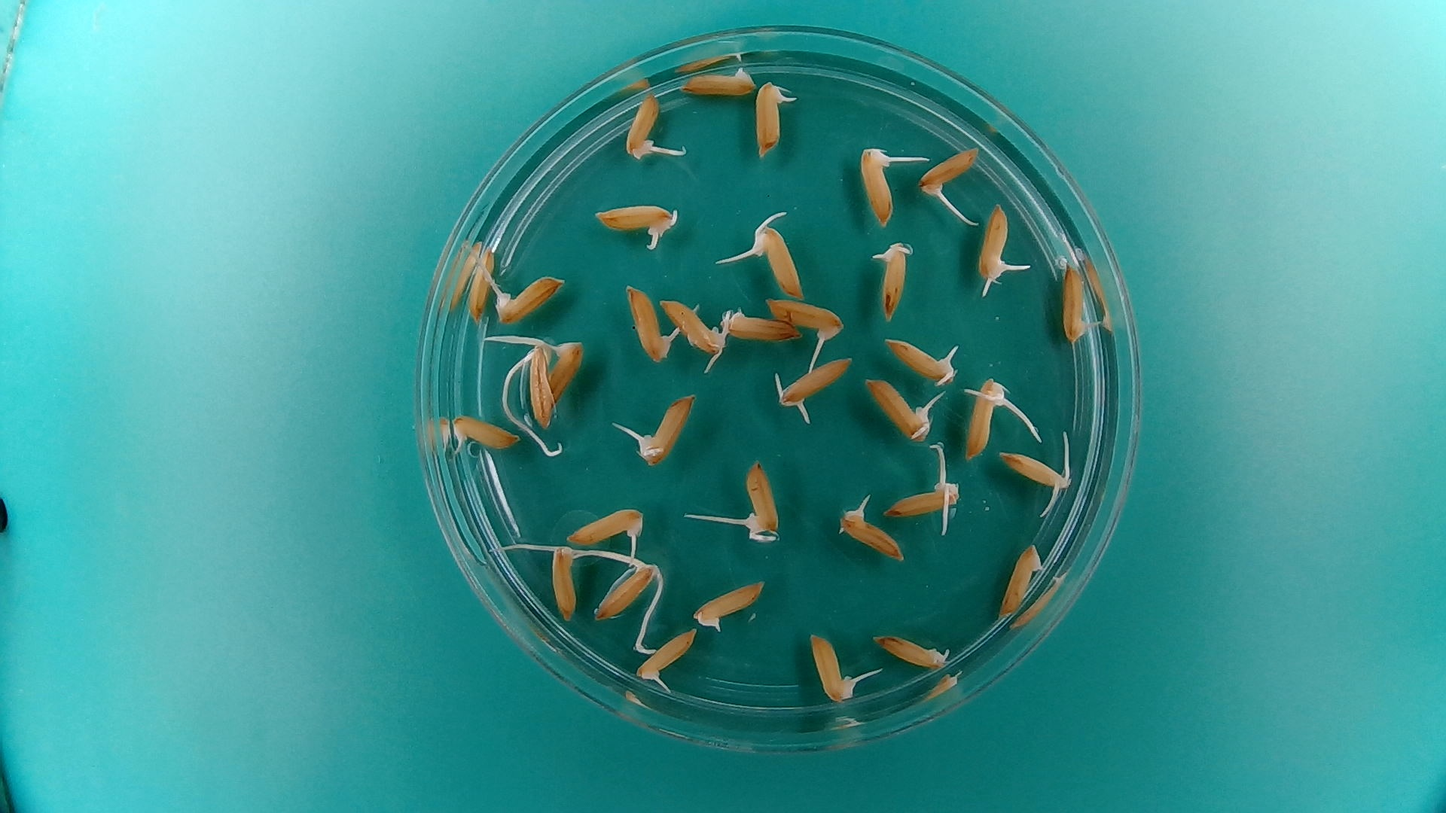no: (996, 537, 1045, 623), (679, 65, 758, 99), (465, 242, 496, 324)
yes: (620, 390, 699, 467), (590, 196, 683, 246), (776, 353, 856, 410), (691, 576, 769, 632), (657, 296, 727, 356), (868, 236, 915, 322), (866, 379, 932, 440), (636, 626, 700, 685), (962, 381, 1009, 461), (837, 504, 904, 560), (997, 446, 1072, 496), (752, 228, 803, 301), (1056, 254, 1096, 347), (765, 297, 847, 342), (563, 502, 643, 548), (627, 285, 673, 364), (593, 561, 654, 620), (885, 336, 961, 382), (871, 630, 952, 673), (494, 276, 566, 323), (809, 630, 853, 704), (740, 464, 781, 543), (919, 142, 981, 193), (447, 411, 521, 453), (856, 149, 894, 230), (542, 335, 585, 406), (522, 337, 556, 426), (547, 536, 583, 620), (881, 481, 958, 519), (721, 309, 804, 344), (977, 204, 1012, 284), (622, 87, 660, 157), (756, 80, 789, 156)
